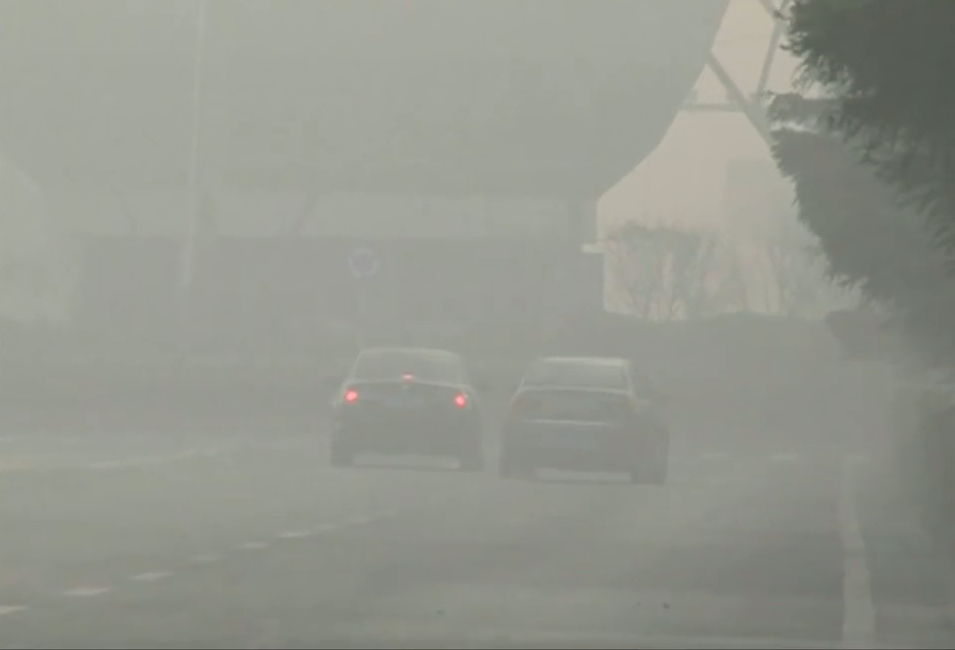car: (494, 356, 674, 483), (325, 344, 486, 471)
